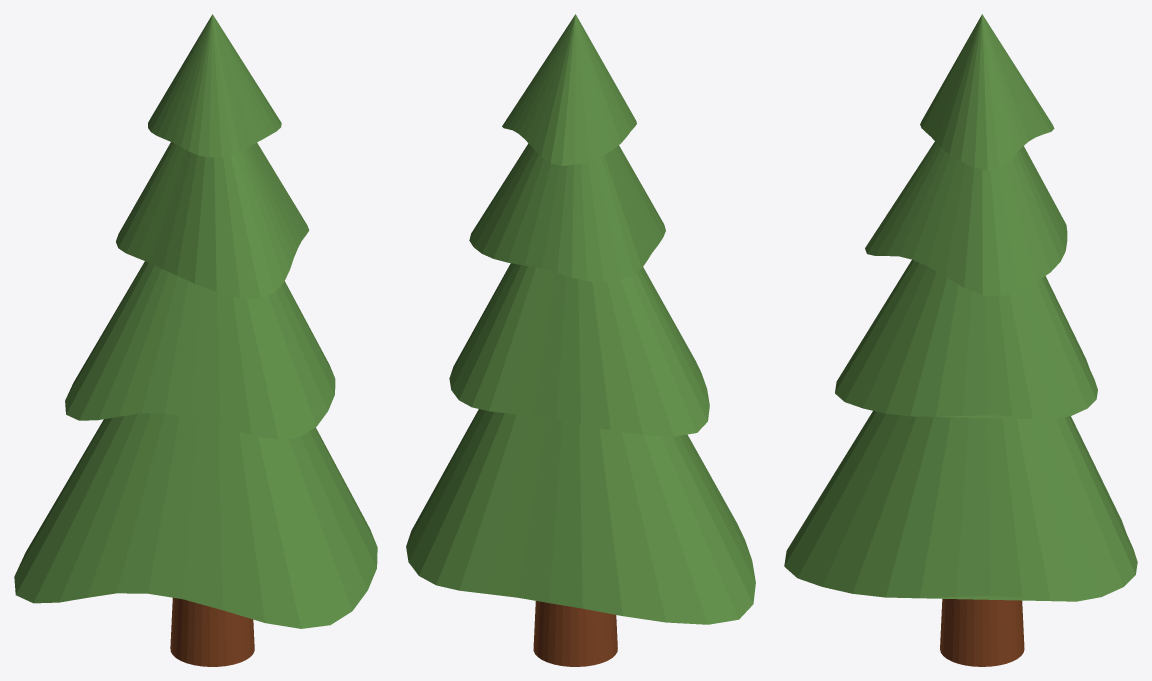
Rendered from decorLarge-snow-49.glb.
3 renders of one model, left to right at view 1: azimuth 30°, elevation 25°; view 2: azimuth 150°, elevation 25°; view 3: azimuth 270°, elevation 25°, orthographic.
Parts seen in each view (by area): view 1: piece; view 2: piece; view 3: piece.
Boxes of the visible parts, x1,y1,x2,y2 form: piece: (14, 14, 377, 666); piece: (406, 14, 755, 666); piece: (784, 14, 1137, 666).
Size of the model in its own units: 8.54 by 16.57 by 8.36.
